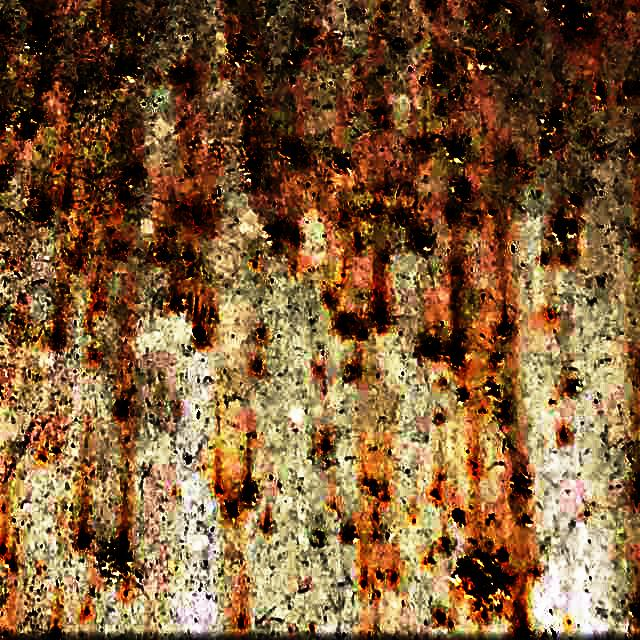Corrosion: (453, 552, 513, 612), (97, 534, 132, 583), (363, 478, 392, 524), (422, 338, 465, 368), (360, 568, 399, 600), (0, 110, 41, 138), (541, 238, 579, 267), (25, 14, 51, 53), (486, 382, 512, 421), (560, 4, 593, 31), (118, 166, 141, 203), (423, 538, 452, 566), (227, 33, 253, 64), (179, 204, 206, 228), (554, 216, 579, 241), (542, 108, 564, 135), (281, 141, 307, 163), (35, 443, 61, 465), (264, 222, 284, 249), (512, 474, 533, 498), (113, 58, 138, 78), (245, 96, 263, 121), (170, 64, 194, 82), (0, 544, 15, 572), (452, 180, 472, 201), (447, 140, 466, 162), (337, 314, 356, 335), (431, 474, 444, 504), (373, 106, 390, 127), (242, 482, 257, 505), (414, 232, 433, 250), (35, 202, 52, 222), (182, 252, 195, 278), (369, 196, 385, 216), (113, 400, 128, 421), (478, 50, 495, 68), (170, 296, 189, 312), (50, 328, 64, 349), (245, 154, 262, 171), (152, 247, 169, 263), (109, 242, 127, 257), (432, 66, 446, 85), (343, 528, 359, 544), (335, 154, 352, 169), (344, 366, 361, 381), (76, 532, 90, 550), (499, 320, 513, 336), (542, 138, 555, 154), (627, 80, 640, 96), (453, 510, 465, 526), (192, 328, 205, 342), (596, 82, 607, 98), (354, 234, 364, 251), (375, 310, 387, 324), (289, 50, 301, 64), (37, 72, 47, 88), (289, 228, 300, 242), (436, 612, 447, 626), (560, 428, 570, 442), (62, 190, 70, 207), (50, 628, 61, 640), (570, 382, 582, 393), (321, 440, 332, 452), (523, 20, 536, 30), (516, 631, 530, 640), (89, 350, 100, 361), (380, 183, 390, 195), (631, 143, 640, 156), (238, 616, 246, 630), (632, 606, 640, 619), (396, 214, 406, 224), (256, 360, 263, 373), (324, 294, 333, 304), (82, 608, 90, 619), (75, 258, 82, 268), (215, 486, 222, 495), (448, 622, 455, 629)
